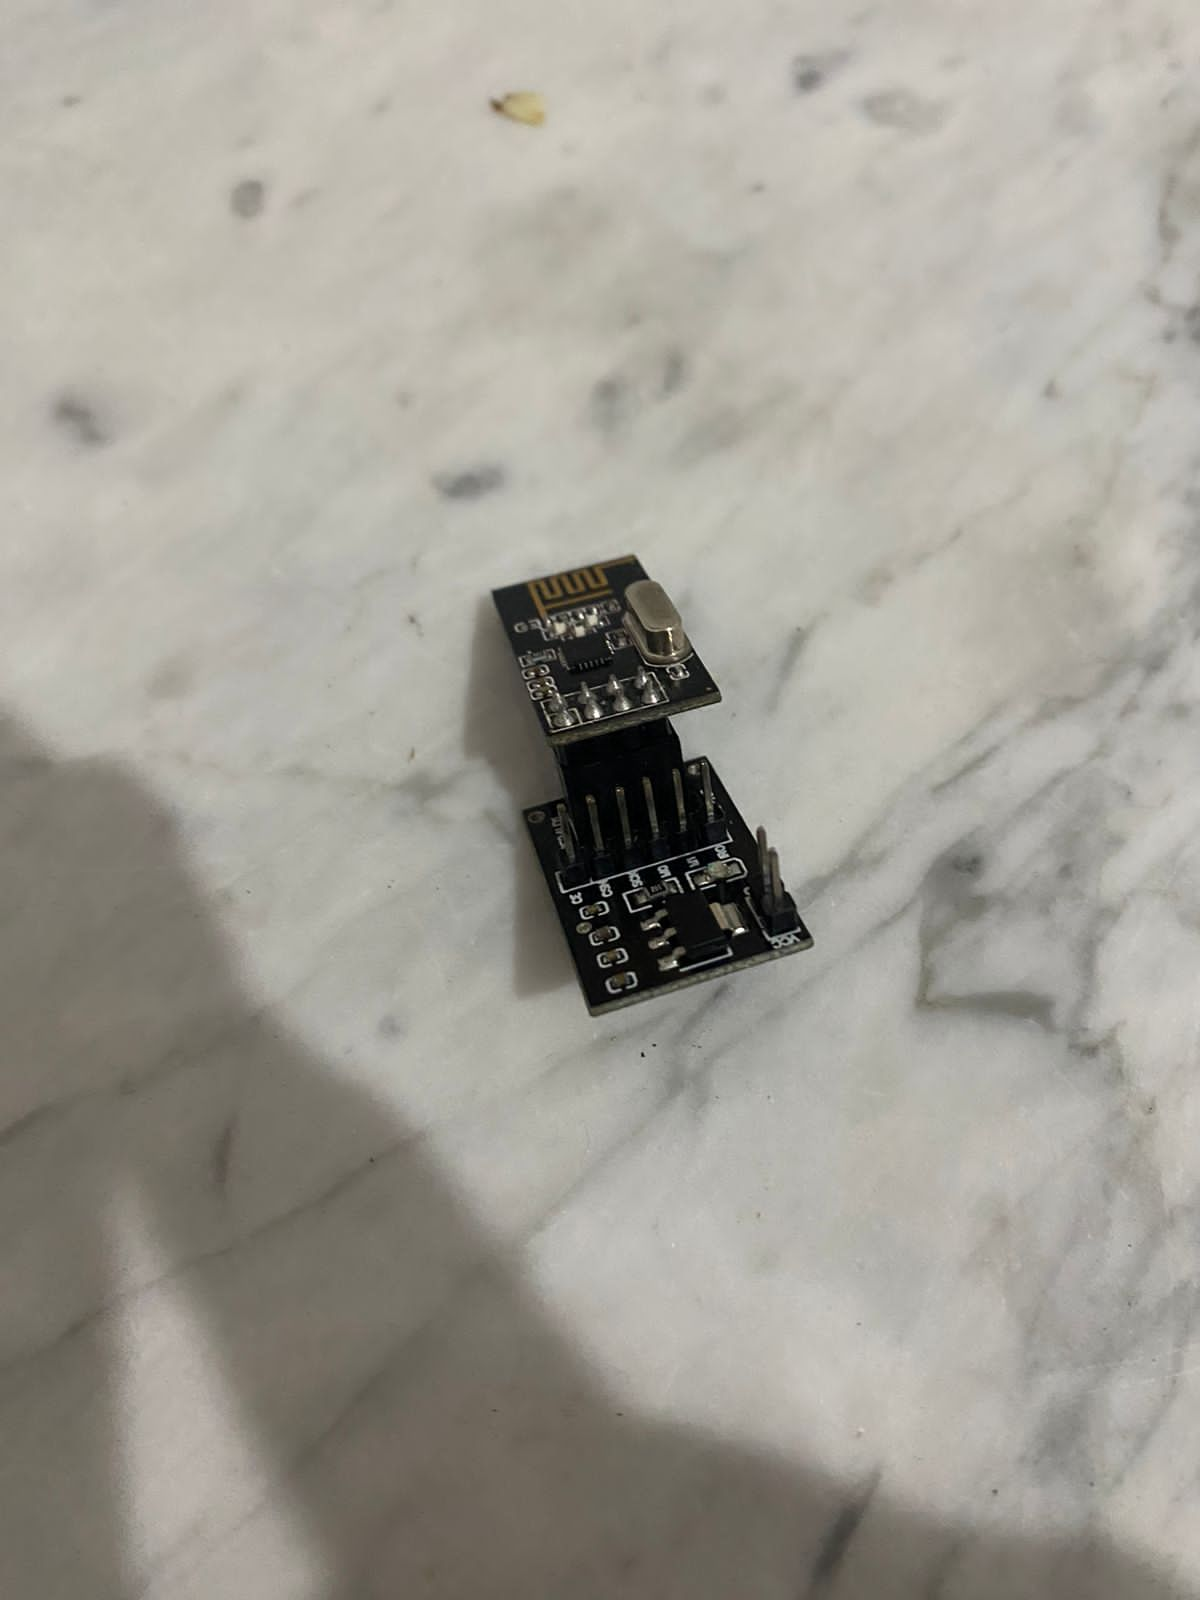RF-module: (474, 542, 823, 1022)
